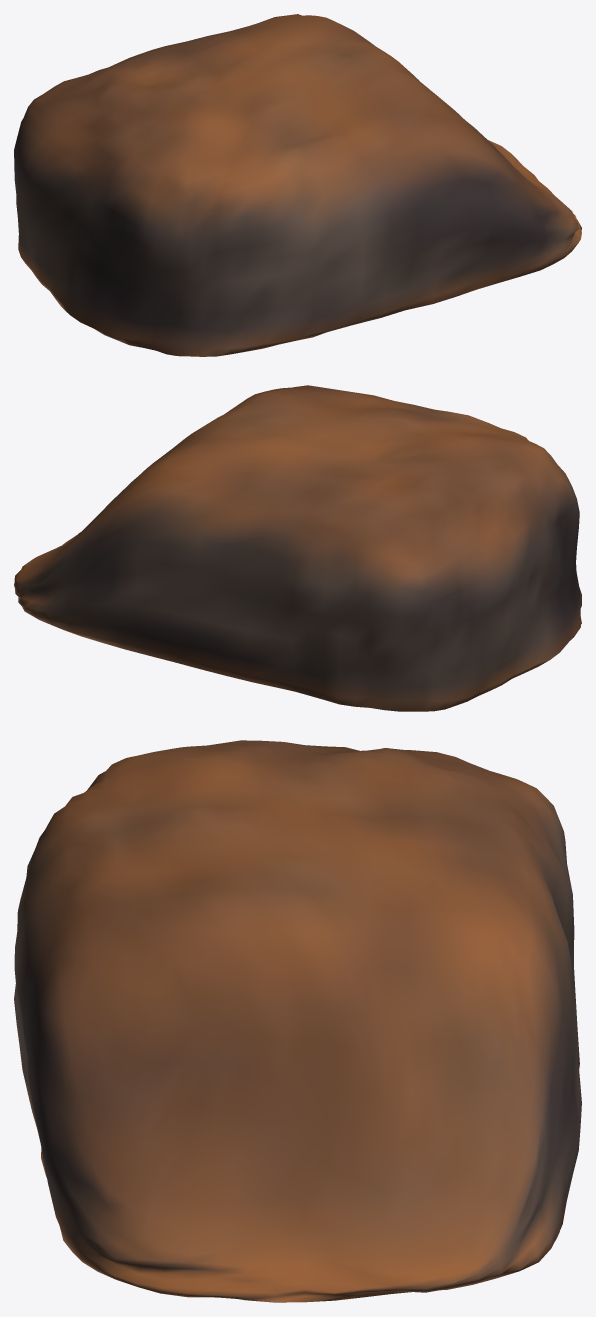
File: wedge.glb
3 renders of one model, top to bottom at view 1: azimuth 30°, elevation 25°; view 2: azimuth 150°, elevation 25°; view 3: azimuth 270°, elevation 25°, orthographic. The views are drawn at different scales.
Visible parts, largest first — view 1: cover-wedge; view 2: cover-wedge; view 3: cover-wedge.
Part boxes in pixels (x1=…): cover-wedge: x1=14, y1=14, x2=581, y2=356; cover-wedge: x1=14, y1=385, x2=581, y2=711; cover-wedge: x1=14, y1=740, x2=581, y2=1302.
Bounding box in the file's own units: 0.3283 × 0.12 × 0.2253.
